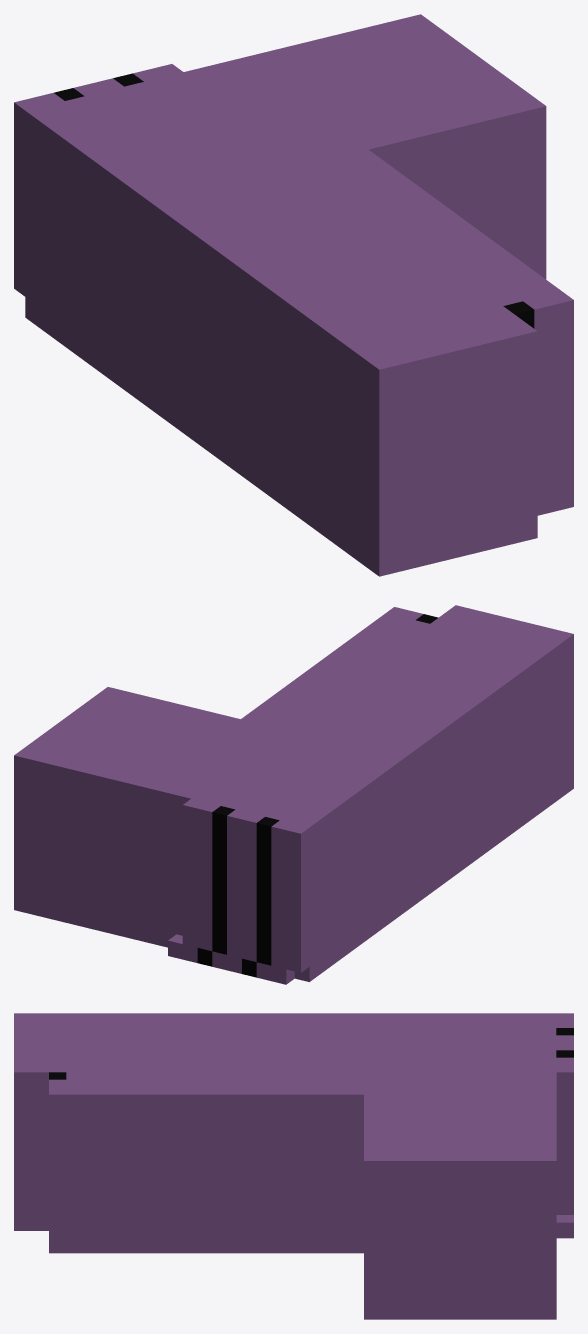
3 views of the same model, one above another, from view 1: azimuth 30°, elevation 25°; view 2: azimuth 150°, elevation 25°; view 3: azimuth 270°, elevation 25° (orthographic). The views are drawn at different scales.
Size of the model in its own units: 1 by 0.5 by 1.6.
